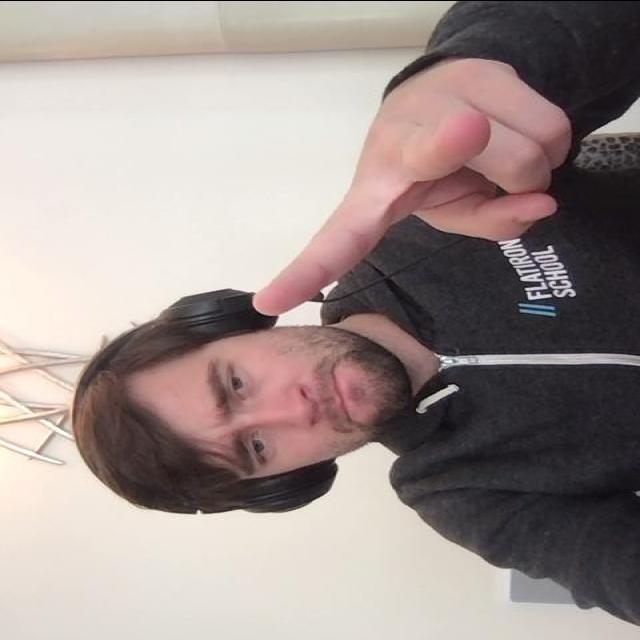Scissors: (224, 60, 586, 318)
